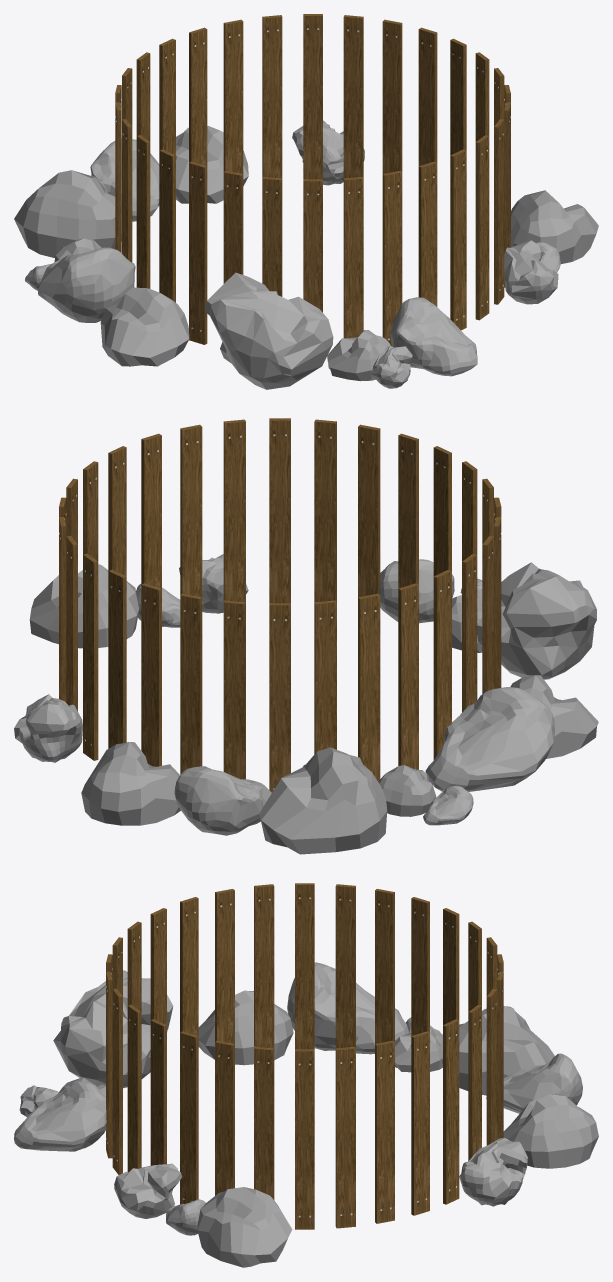
Rendered from arena_details.fbx.
3 renders of one model, top to bottom at view 1: azimuth 30°, elevation 25°; view 2: azimuth 150°, elevation 25°; view 3: azimuth 270°, elevation 25°, orthographic. The views are drawn at different scales.
Parts seen in each view (by area): view 1: Stone3.004, Stone.001, Stone.005, Stone2, Stone2.002, Stone.002, fence.119, fence.131, fence.017, fence.041, fence.125, fence.047 (+29 smaller); view 2: Stone.001, Stone2, Stone3.004, Stone.004, Stone2.001, fence.059, fence.071, fence.065, fence.149, fence.167, fence.143, fence.155 (+30 smaller); view 3: Stone.002, Stone3.004, Stone.004, Stone2.002, fence.101, Stone2, fence.095, fence.107, Stone3, fence.113, fence.011, fence.179 (+29 smaller).
Part boxes in pixels (bbox=[...]): Stone3.004: bbox=[204, 272, 333, 389]; Stone.001: bbox=[14, 170, 121, 257]; Stone.005: bbox=[100, 287, 189, 366]; Stone2: bbox=[38, 247, 135, 322]; Stone2.002: bbox=[390, 297, 477, 376]; Stone.002: bbox=[511, 190, 598, 263]; fence.119: bbox=[343, 15, 363, 178]; fence.131: bbox=[262, 15, 282, 178]; fence.017: bbox=[189, 161, 207, 344]; fence.041: bbox=[343, 176, 363, 338]; fence.125: bbox=[303, 14, 322, 179]; fence.047: bbox=[382, 170, 402, 346]; Stone.001: bbox=[259, 747, 387, 854]; Stone2: bbox=[425, 687, 554, 791]; Stone3.004: bbox=[477, 562, 596, 679]; Stone.004: bbox=[81, 742, 180, 825]; Stone2.001: bbox=[174, 766, 271, 835]; fence.059: bbox=[314, 419, 336, 602]; fence.071: bbox=[223, 419, 245, 602]; fence.065: bbox=[269, 418, 290, 603]; fence.149: bbox=[223, 600, 245, 779]; fence.167: bbox=[358, 593, 380, 781]; fence.143: bbox=[180, 593, 202, 774]; fence.155: bbox=[269, 603, 290, 792]; Stone.002: bbox=[197, 1187, 292, 1267]; Stone3.004: bbox=[53, 970, 173, 1088]; Stone.004: bbox=[503, 1094, 598, 1168]; Stone2.002: bbox=[14, 1081, 106, 1151]; fence.101: bbox=[335, 1046, 355, 1228]; Stone2: bbox=[287, 962, 408, 1054]; fence.095: bbox=[295, 1049, 314, 1229]; fence.107: bbox=[375, 1040, 394, 1223]; Stone3: bbox=[459, 1137, 528, 1206]; fence.113: bbox=[411, 1031, 429, 1215]; fence.011: bbox=[254, 884, 274, 1048]; fence.179: bbox=[335, 884, 355, 1048].
Bounding box in the file's own units: 596 × 205 × 595.
Materials: 6 (1 with a texture image).
